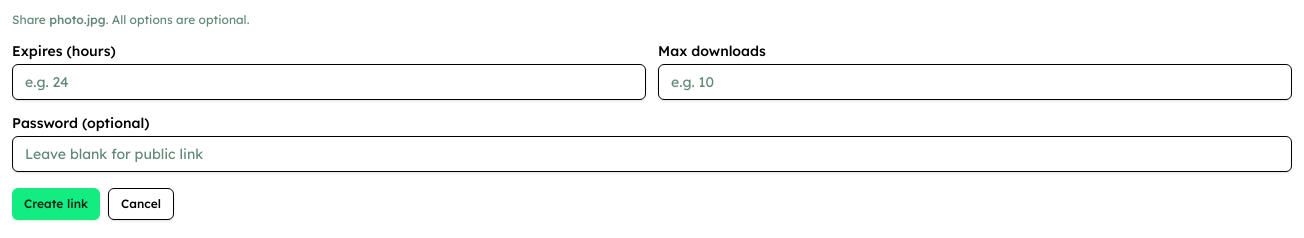
Test case: ShareModal › shows share URL after successful creation
Click the button "Create link".
click(56, 204)  # box x1=12 y1=188 x2=100 y2=220
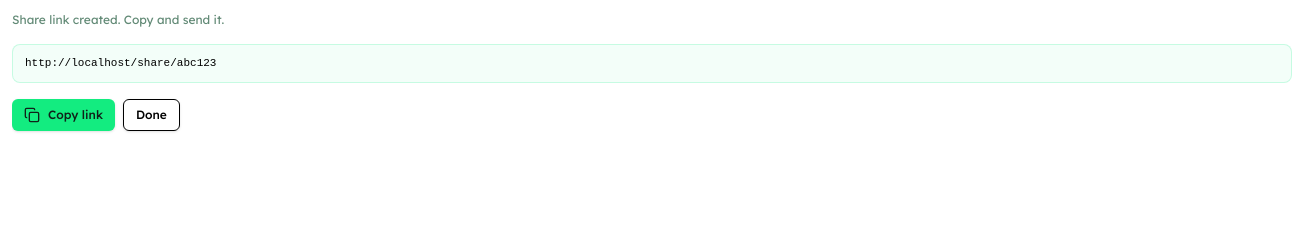
Expected: the text "http://localhost/share/abc123" is shown, x1=25 y1=57 x2=216 y2=69
